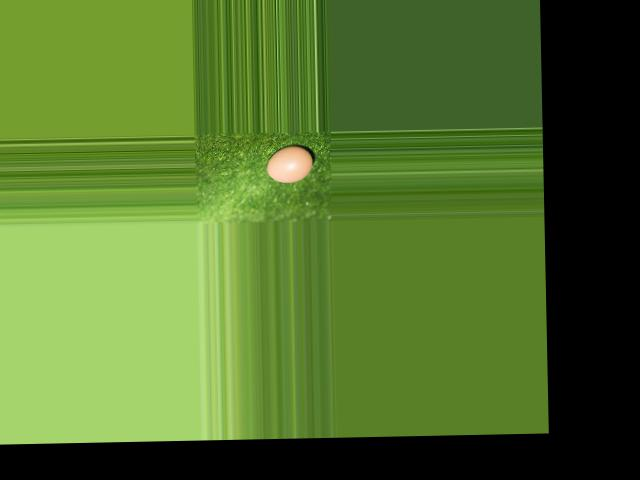egg: (265, 144, 313, 182)
